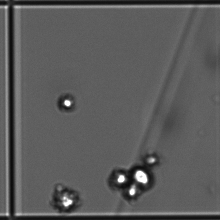Living Cell: (126, 161, 157, 191), (49, 183, 74, 210), (57, 89, 80, 118), (123, 184, 144, 205), (110, 164, 126, 187), (143, 148, 162, 166)
